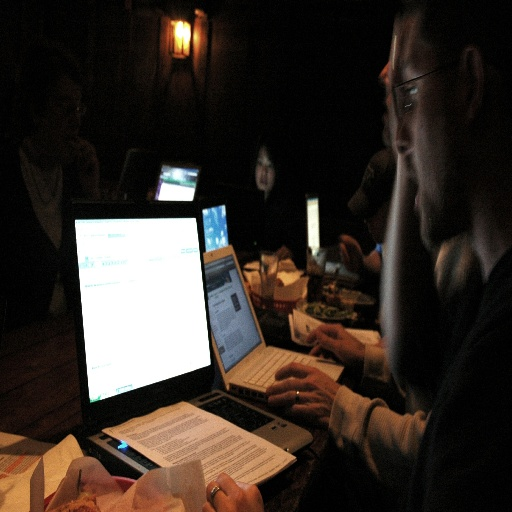hand: (275, 356, 351, 431), (304, 320, 362, 372), (200, 471, 264, 511), (336, 233, 363, 271)
